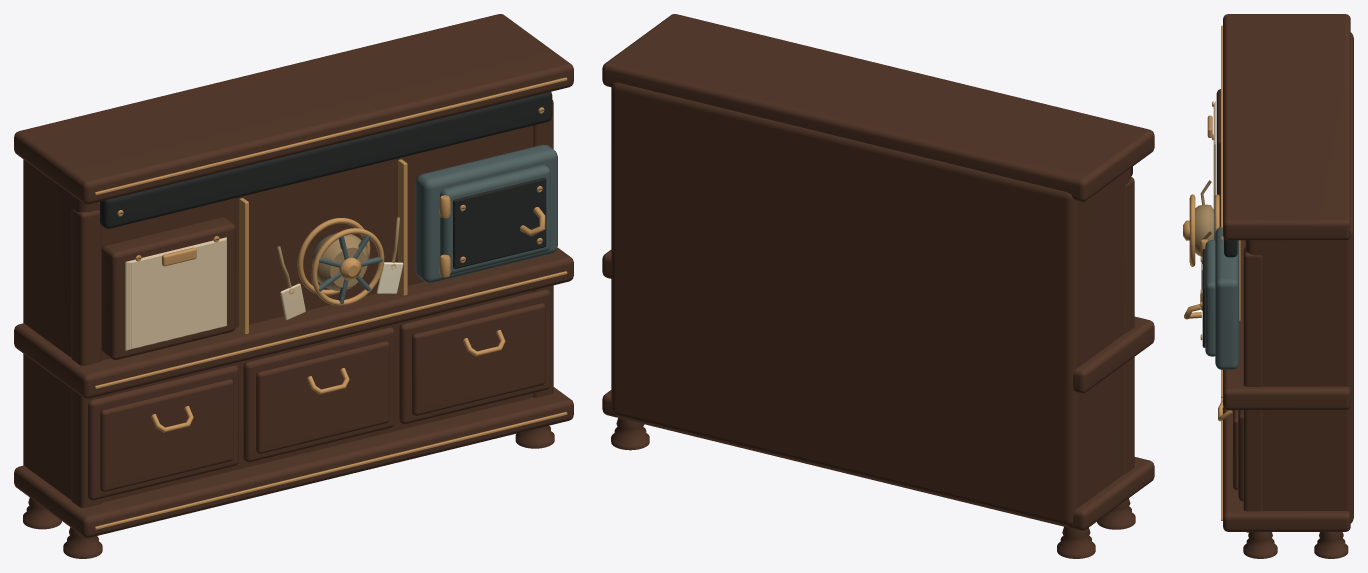
The model's file is returns.glb.
3 views of the same model, side by side, from view 1: azimuth 30°, elevation 25°; view 2: azimuth 150°, elevation 25°; view 3: azimuth 270°, elevation 25° (orthographic). The views are drawn at different scales.
Parts seen in each view (by area): view 1: Projecting moulded rail.002, Carcass, Projecting moulded rail.001, Projecting moulded rail, Cast header plate, Fielded walnut panel, Fielded walnut panel.001, Fielded walnut panel.002, Deckled folio leaf.004, Dovetailed document tray, Ebonised stile, Raised moulded face (+17 smaller); view 2: Carcass, Projecting moulded rail.002, Projecting moulded rail, Ebonised stile, Projecting moulded rail.001, Turned pilaster foot.001, Turned pilaster foot.003, Turned pilaster foot; view 3: Projecting moulded rail.002, Carcass, Ebonised stile.001, Projecting moulded rail.001, Projecting moulded rail, Rebated hatch casing, Deep-pressed hatch leaf, Turned pilaster foot.003, Turned pilaster foot.002, Cord wound around hub, Dovetailed document tray, Recessed door panel.002 (+5 smaller).
Part boxes in pixels (x1,y1,x2,y2): Projecting moulded rail.002: (14,14,573,204); Carcass: (23,125,533,502); Projecting moulded rail.001: (14,247,573,398); Projecting moulded rail: (14,387,573,537); Cast header plate: (100,92,552,228); Fielded walnut panel: (100,379,233,491); Fielded walnut panel.001: (256,341,389,453); Fielded walnut panel.002: (412,303,545,415); Deckled folio leaf.004: (131,239,226,348); Dovetailed document tray: (101,217,235,359); Ebonised stile: (71,209,101,507); Raised moulded face: (453,177,546,268); Carcass: (611,82,1130,526); Projecting moulded rail.002: (602,14,1154,201); Projecting moulded rail: (602,390,1154,530); Ebonised stile: (1124,177,1134,473); Projecting moulded rail.001: (602,250,1154,393); Turned pilaster foot.001: (1057,526,1095,558); Turned pilaster foot.003: (611,418,649,450); Turned pilaster foot: (1097,498,1135,529); Projecting moulded rail.002: (1223,14,1350,240); Carcass: (1245,32,1353,523); Ebonised stile.001: (1243,247,1262,532); Projecting moulded rail.001: (1223,240,1350,410); Projecting moulded rail: (1223,407,1350,531); Rebated hatch casing: (1215,227,1238,369); Deep-pressed hatch leaf: (1205,240,1215,356); Turned pilaster foot.003: (1314,532,1348,558); Turned pilaster foot.002: (1243,532,1277,558); Cord wound around hub: (1195,204,1213,255); Dovetailed document tray: (1216,89,1220,226); Recessed door panel.002: (1238,410,1243,501).
Size of the model in its own units: 2.52 by 1.9 by 0.869.
